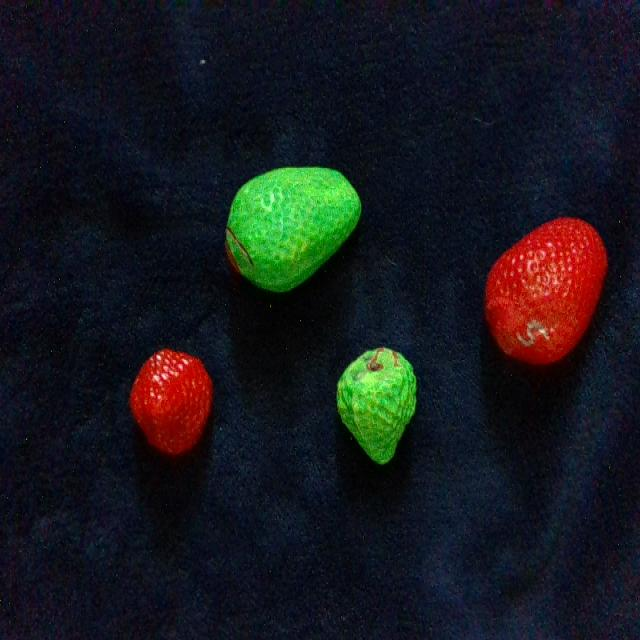chica_roja: (130, 349, 213, 455)
grande_roja: (486, 217, 606, 363)
verde: (225, 168, 360, 291), (338, 348, 416, 463)
